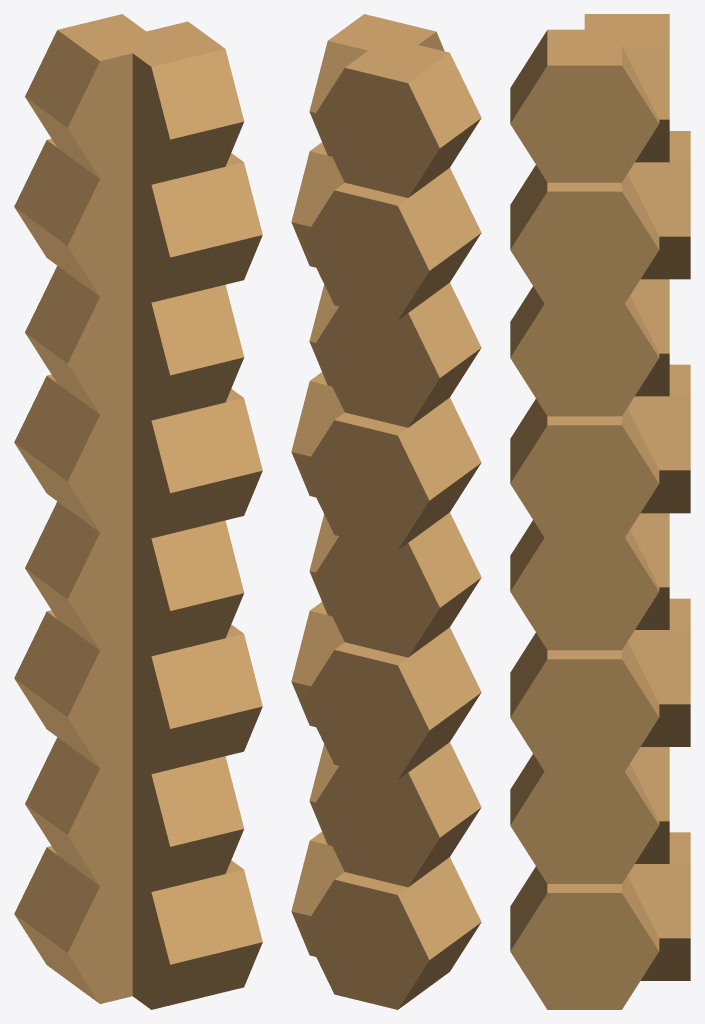
File: cabinCorner.fbx
3 views of the same model, side by side, from view 1: azimuth 30°, elevation 25°; view 2: azimuth 150°, elevation 25°; view 3: azimuth 270°, elevation 25° (orthographic). The views are drawn at different scales.
Visible parts, largest first — view 1: cabinCorner; view 2: cabinCorner; view 3: cabinCorner.
Boxes of the visible parts, x1,y1,x2,y2 form: cabinCorner: (14,14,262,1009); cabinCorner: (291,14,481,1009); cabinCorner: (510,14,690,1009).
Size of the model in its own units: 1.7 by 9.73 by 1.7.
